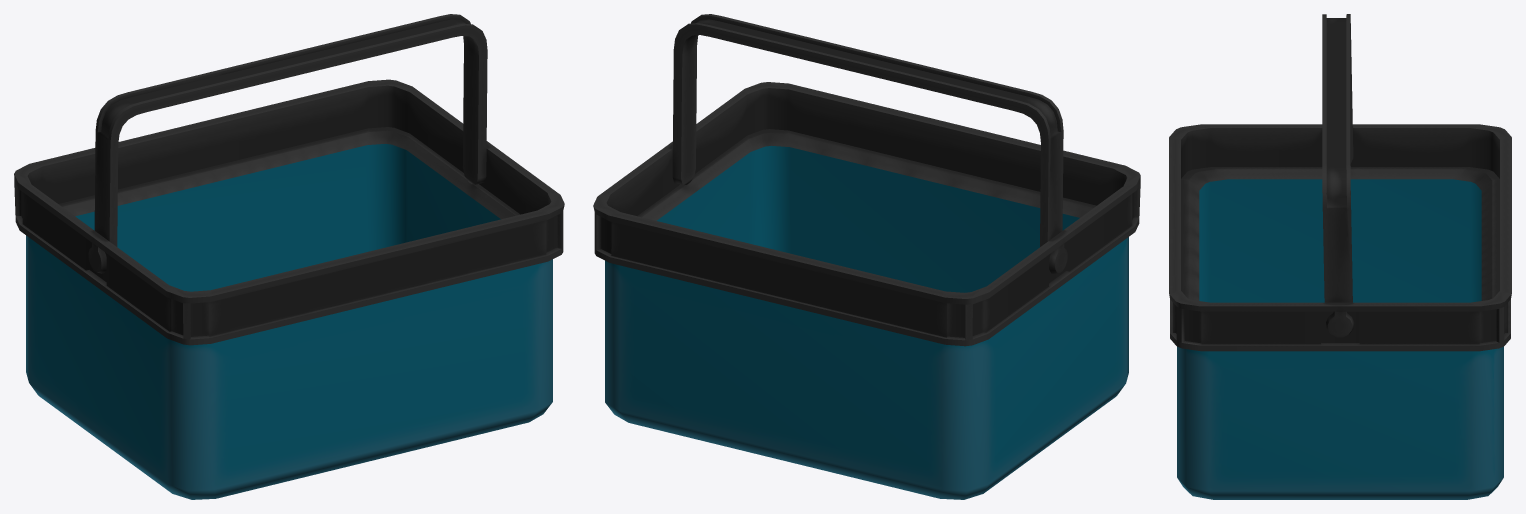
The model's file is Basket.fbx.
3 views of the same model, side by side, from view 1: azimuth 30°, elevation 25°; view 2: azimuth 150°, elevation 25°; view 3: azimuth 270°, elevation 25° (orthographic). The views are drawn at different scales.
Visible parts, largest first — view 1: Basket; view 2: Basket; view 3: Basket.
Part boxes in pixels (x1,y1,x2,y2): Basket: [14, 14, 564, 499]; Basket: [593, 14, 1140, 499]; Basket: [1169, 14, 1511, 499].
Bounding box in the file's own units: 47.34 × 40.08 × 37.7.
